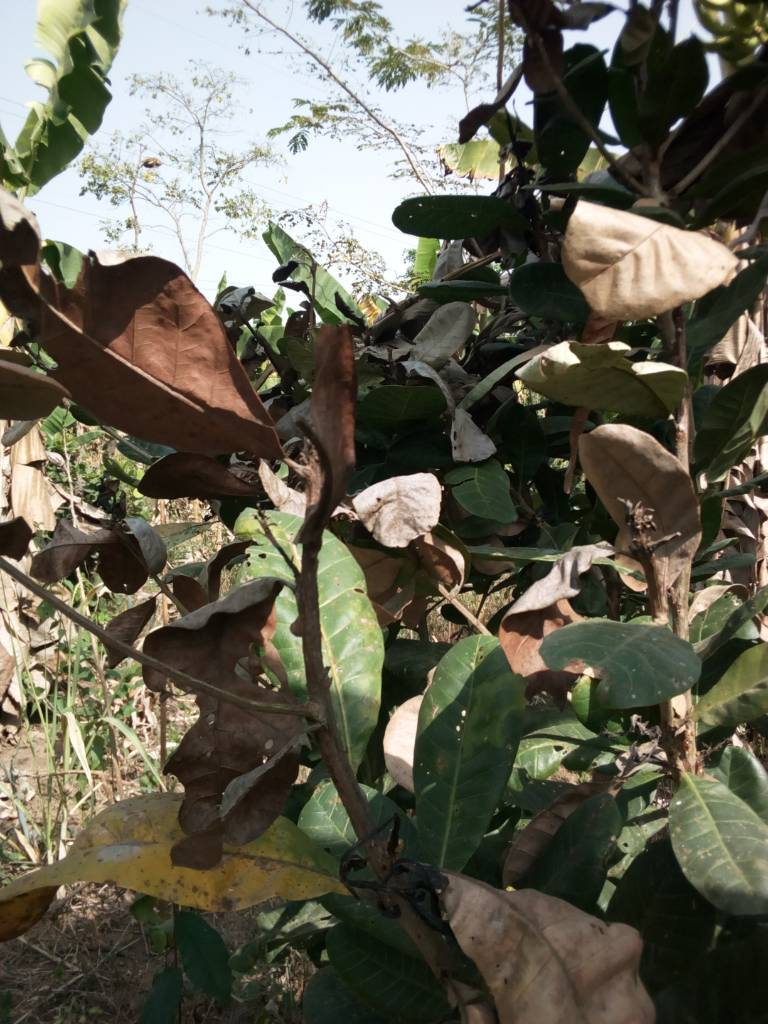Dessèchement des bourgeons: (331, 786, 453, 937), (223, 278, 311, 381)
